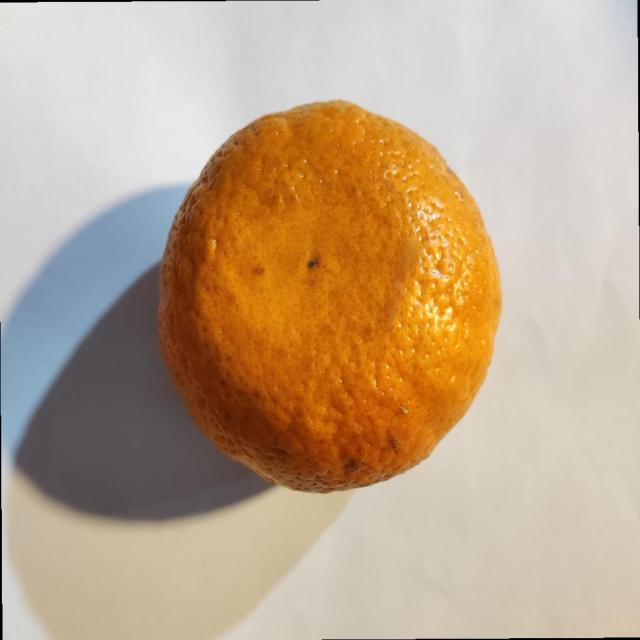fresh orange: (156, 98, 503, 494)
